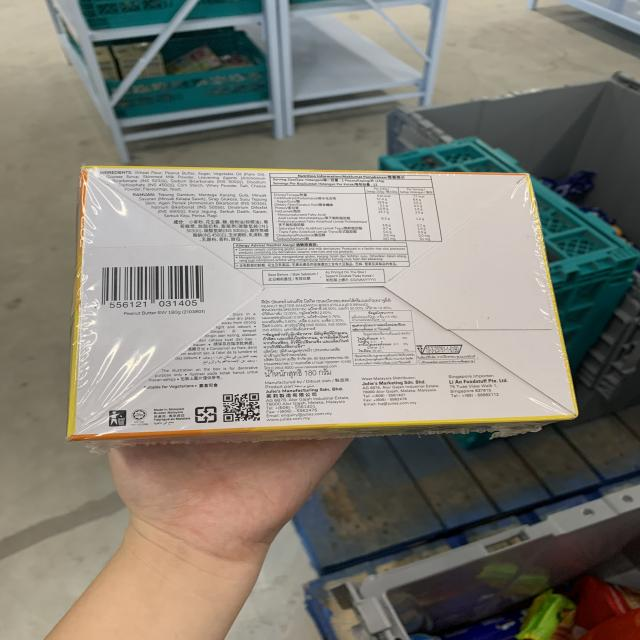object_name: (83, 165, 557, 421)
